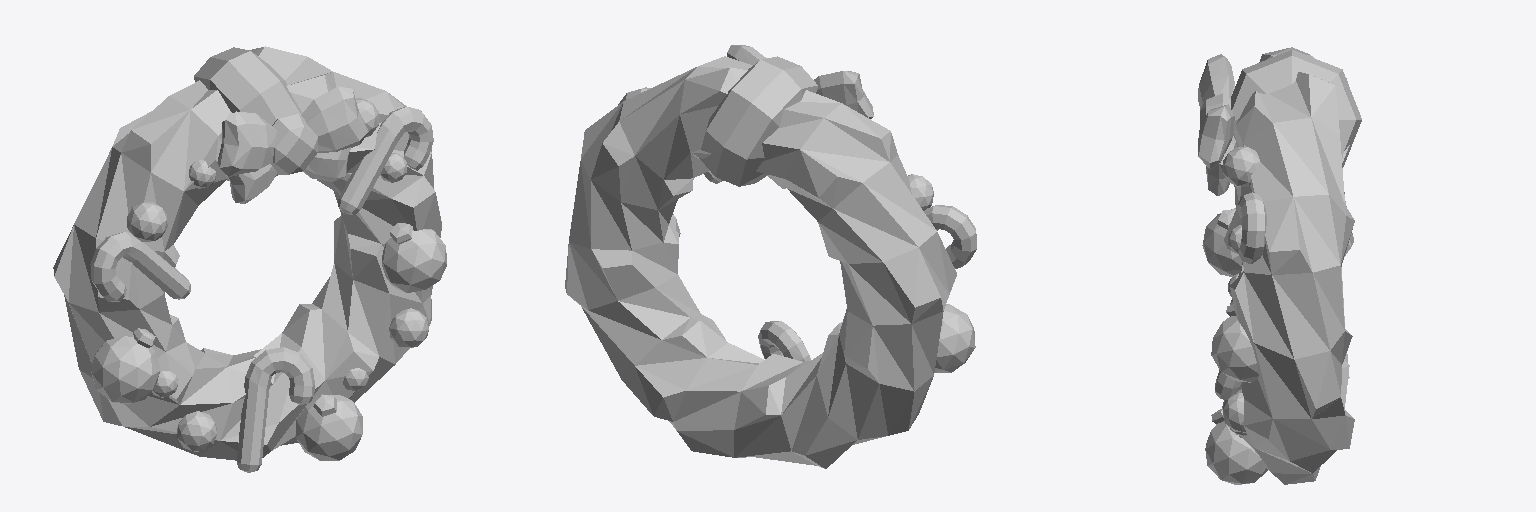
File: wreath.obj
The picture shows the model from 3 angles: view 1: azimuth 30°, elevation 25°; view 2: azimuth 150°, elevation 25°; view 3: azimuth 270°, elevation 25°; orthographic projection.
Visible parts, largest first — view 1: wreath; view 2: wreath; view 3: wreath.
Part boxes in pixels (left/top/right/bottom): wreath: left=53, top=46, right=446, bottom=472; wreath: left=565, top=45, right=976, bottom=468; wreath: left=1198, top=47, right=1361, bottom=484.
Size of the model in its own units: 1.31 by 1.34 by 0.4996.